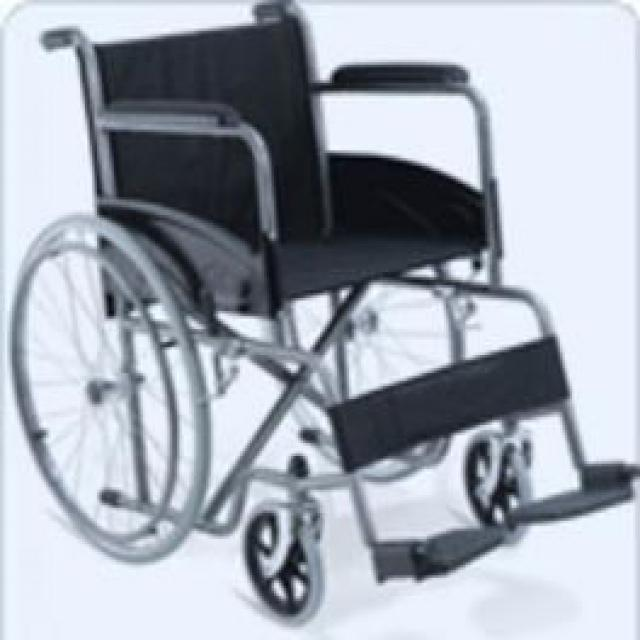wheelchair: (7, 0, 638, 617)
